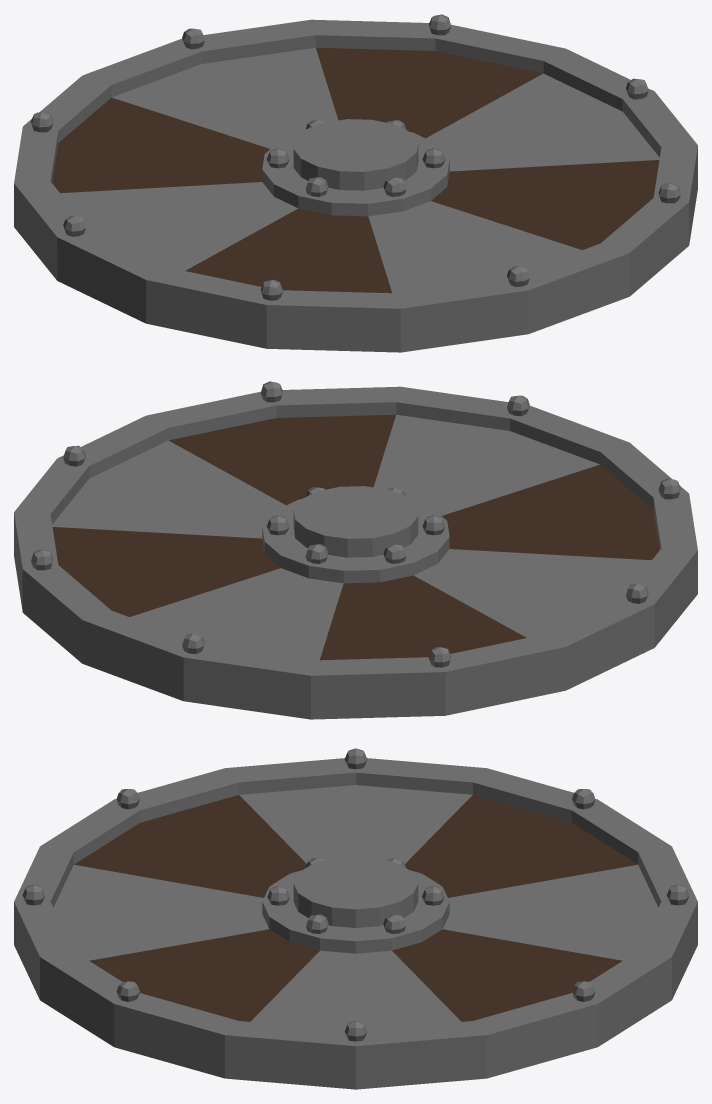
Rendered from RoundShield.fbx.
3 views of the same model, one above another, from view 1: azimuth 30°, elevation 25°; view 2: azimuth 150°, elevation 25°; view 3: azimuth 270°, elevation 25° (orthographic).
Parts seen in each view (by area): view 1: Shield, Spheres; view 2: Shield, Spheres; view 3: Shield, Spheres.
Part boxes in pixels (x1,y1,x2,y2): Shield: (14, 19, 697, 352); Spheres: (31, 14, 680, 300); Shield: (14, 386, 697, 719); Spheres: (31, 381, 680, 667); Shield: (14, 758, 697, 1089); Spheres: (22, 748, 689, 1041).
Size of the model in its own units: 1 by 0.1 by 1.
